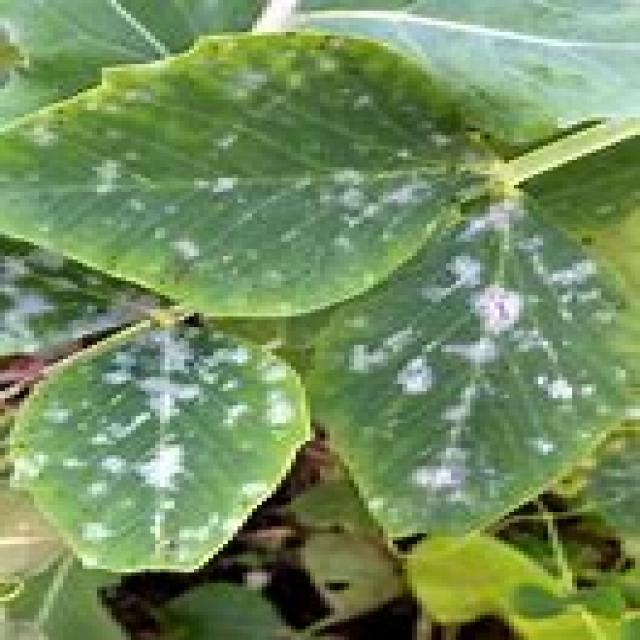Leaf_Mold: (334, 157, 614, 518), (34, 264, 337, 564), (51, 116, 560, 286)
